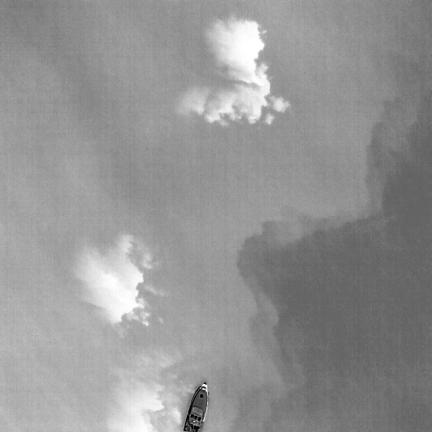flukeprints: (76, 235, 142, 321), (182, 64, 270, 125), (206, 19, 264, 83), (269, 95, 290, 111)
